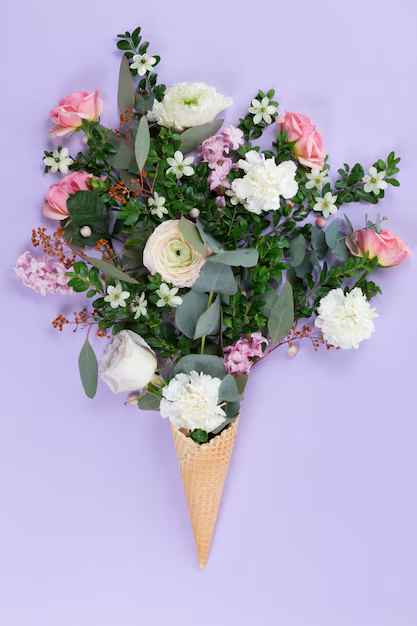Pink: (200, 126, 244, 199), (15, 251, 77, 296), (39, 171, 97, 219), (49, 91, 105, 140), (346, 226, 412, 263), (283, 109, 324, 163), (220, 335, 265, 371)
White: (143, 218, 210, 285), (234, 150, 300, 215), (158, 370, 224, 432), (315, 286, 378, 349), (147, 82, 234, 126), (98, 328, 155, 393), (42, 148, 73, 176), (164, 152, 195, 179), (361, 166, 387, 195), (103, 282, 130, 309), (306, 165, 331, 192), (314, 193, 341, 218), (153, 285, 182, 308), (146, 191, 169, 219), (249, 99, 275, 123), (131, 53, 157, 75)
